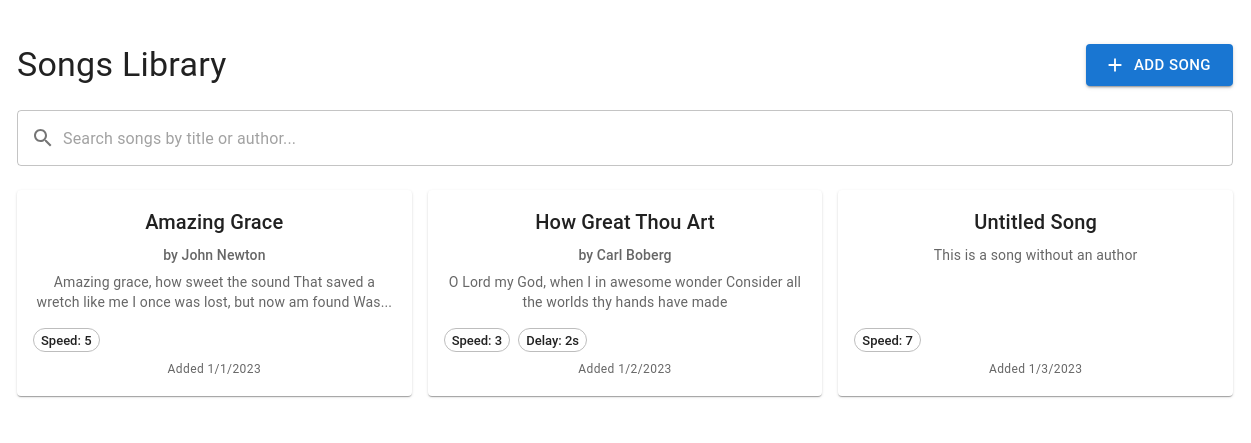
SongsListPage › Search Functionality › should filter songs by title
Type "Amazing" into the field with placeholder "Search songs by title or author..." at point(648, 138), box [63,110,1233,166]
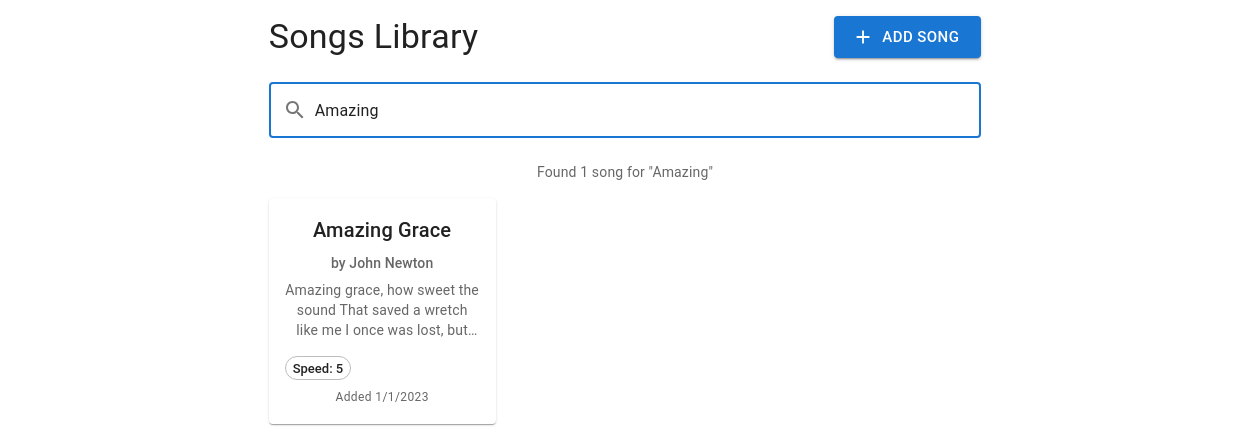
Expected: the button "How Great Thou Art" is gone
Expected: the button "Untitled Song" is gone
Expected: the text "Found 1 song for \"Amazing\"" is shown, [537,164,713,180]
